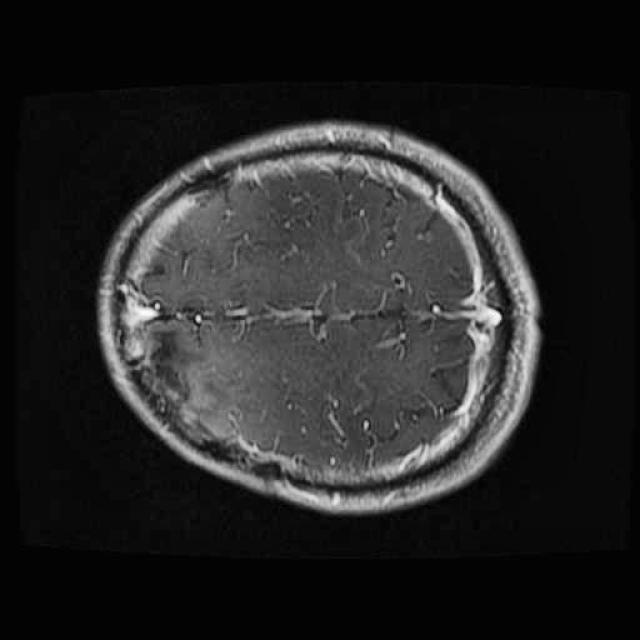Non-Tumor: (115, 300, 244, 465)
